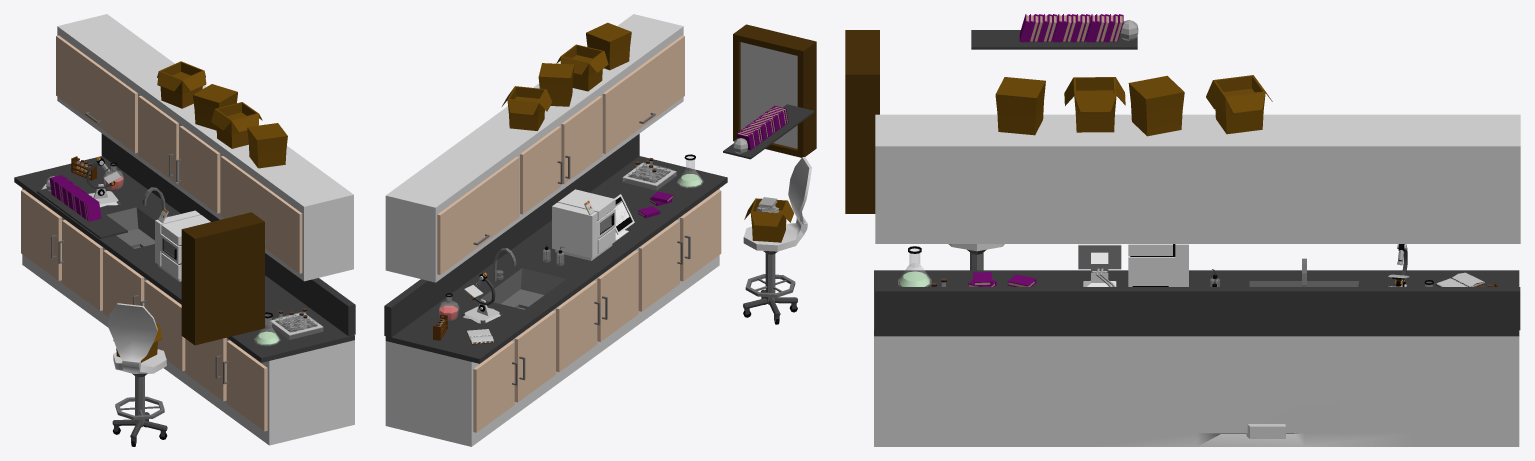
The model's file is laboratorio_casa.fbx.
3 views of the same model, side by side, from view 1: azimuth 30°, elevation 25°; view 2: azimuth 150°, elevation 25°; view 3: azimuth 270°, elevation 25° (orthographic). The views are drawn at different scales.
Visible parts, largest first — view 1: polySurface349, polySurface220, polySurface304, polySurface238, polySurface155, polySurface314, polySurface177, polySurface326, polySurface222, polySurface325, polySurface285, polySurface344 (+2 smaller); view 2: polySurface349, polySurface220, polySurface304, polySurface314, polySurface238, polySurface155, polySurface177, polySurface340, polySurface326, polySurface222, polySurface325, polySurface285 (+2 smaller); view 3: polySurface349, polySurface220, polySurface304, polySurface155, polySurface314, polySurface177, polySurface325, polySurface326, polySurface222, polySurface229.
Boxes of the visible parts, bbox=[...] form: polySurface349: bbox=[14, 133, 355, 445]; polySurface220: bbox=[56, 14, 353, 281]; polySurface304: bbox=[181, 212, 264, 345]; polySurface238: bbox=[107, 303, 167, 446]; polySurface155: bbox=[37, 175, 127, 238]; polySurface314: bbox=[155, 208, 210, 281]; polySurface177: bbox=[157, 61, 206, 108]; polySurface326: bbox=[211, 102, 262, 148]; polySurface222: bbox=[247, 123, 287, 168]; polySurface325: bbox=[193, 84, 237, 130]; polySurface285: bbox=[270, 308, 323, 339]; polySurface344: bbox=[86, 157, 121, 207]; polySurface349: bbox=[384, 134, 727, 446]; polySurface220: bbox=[385, 14, 684, 282]; polySurface304: bbox=[733, 24, 816, 157]; polySurface314: bbox=[552, 189, 634, 260]; polySurface238: bbox=[743, 157, 811, 324]; polySurface155: bbox=[723, 104, 814, 159]; polySurface177: bbox=[502, 86, 552, 130]; polySurface340: bbox=[744, 197, 793, 242]; polySurface326: bbox=[556, 44, 608, 91]; polySurface222: bbox=[586, 22, 631, 70]; polySurface325: bbox=[538, 63, 574, 106]; polySurface285: bbox=[622, 158, 676, 190]; polySurface349: bbox=[874, 270, 1520, 446]; polySurface220: bbox=[875, 114, 1520, 243]; polySurface304: bbox=[845, 30, 879, 213]; polySurface155: bbox=[971, 14, 1138, 49]; polySurface314: bbox=[1078, 244, 1188, 286]; polySurface177: bbox=[1206, 75, 1272, 134]; polySurface325: bbox=[1128, 75, 1184, 136]; polySurface326: bbox=[1064, 77, 1125, 132]; polySurface222: bbox=[995, 77, 1045, 135]; polySurface229: bbox=[898, 246, 931, 286].
Size of the model in its own units: 1.56 by 1.74 by 3.14.
